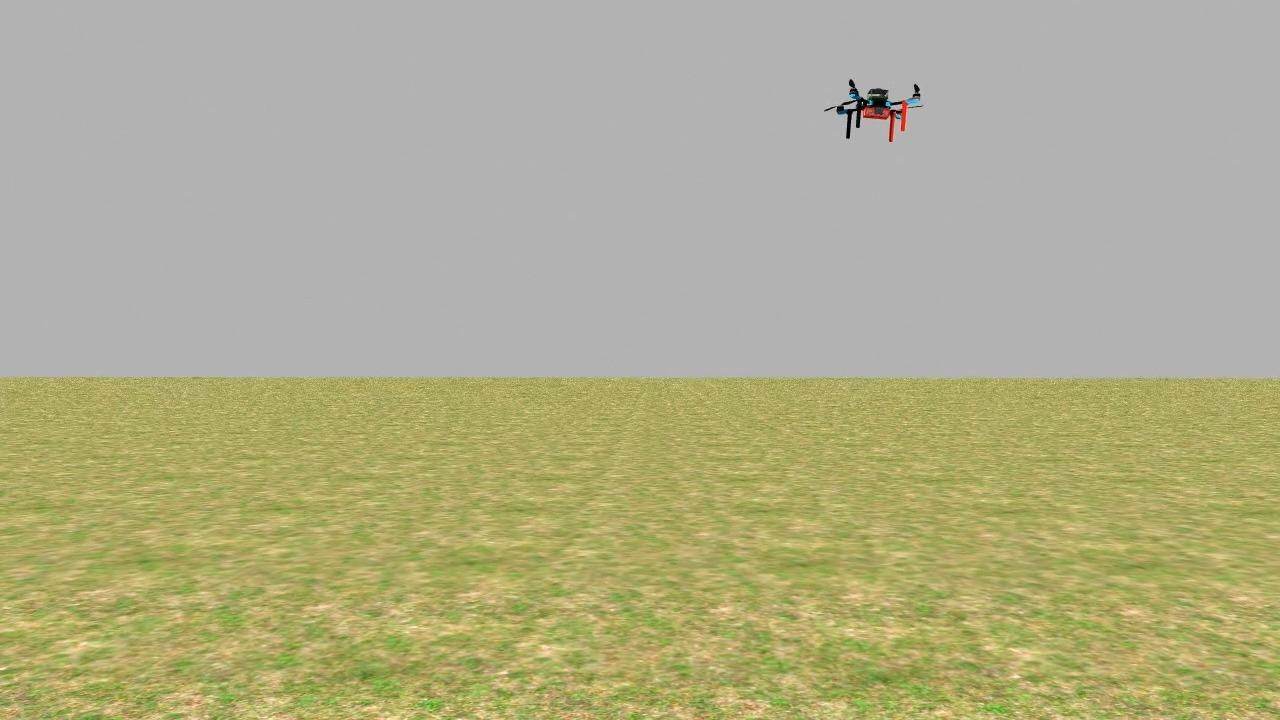UAV: (823, 72, 930, 141)
